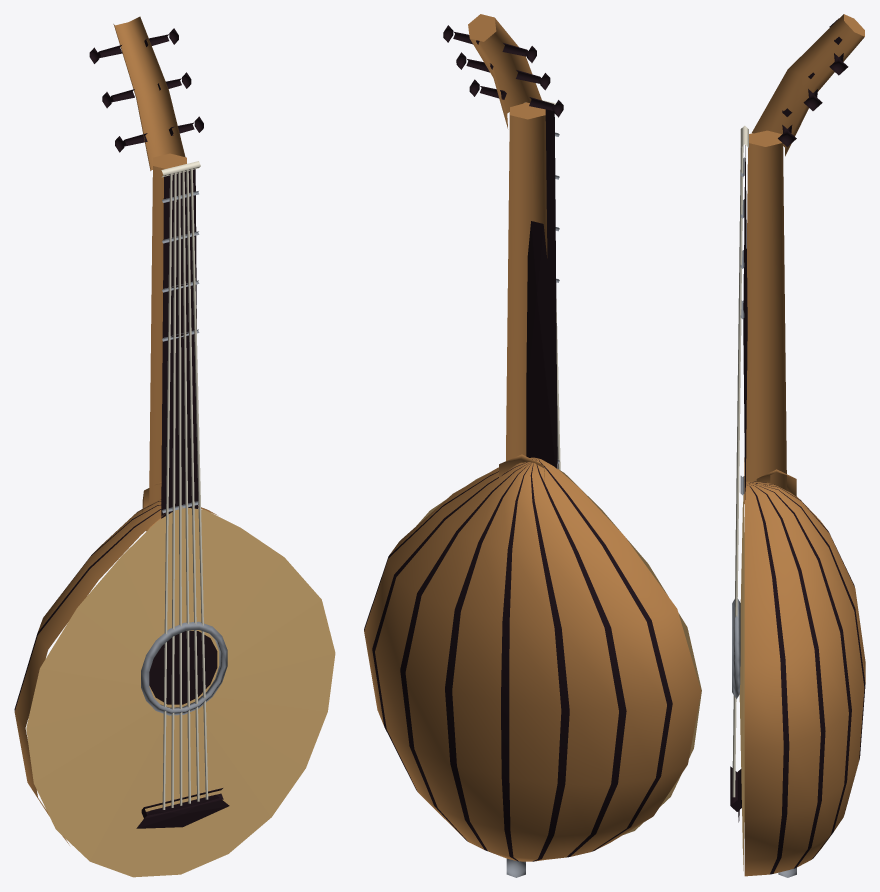
Rendered from lute_0.glb.
3 renders of one model, left to right at view 1: azimuth 30°, elevation 25°; view 2: azimuth 150°, elevation 25°; view 3: azimuth 270°, elevation 25°, orthographic. The views are drawn at different scales.
Parts seen in each view (by area): view 1: lute_0; view 2: lute_0; view 3: lute_0.
Part boxes in pixels (bbox=[...]): lute_0: bbox=[14, 16, 335, 877]; lute_0: bbox=[364, 14, 701, 877]; lute_0: bbox=[730, 14, 865, 877].
Bounding box in the file's own units: 0.264 × 0.6844 × 0.0973.
